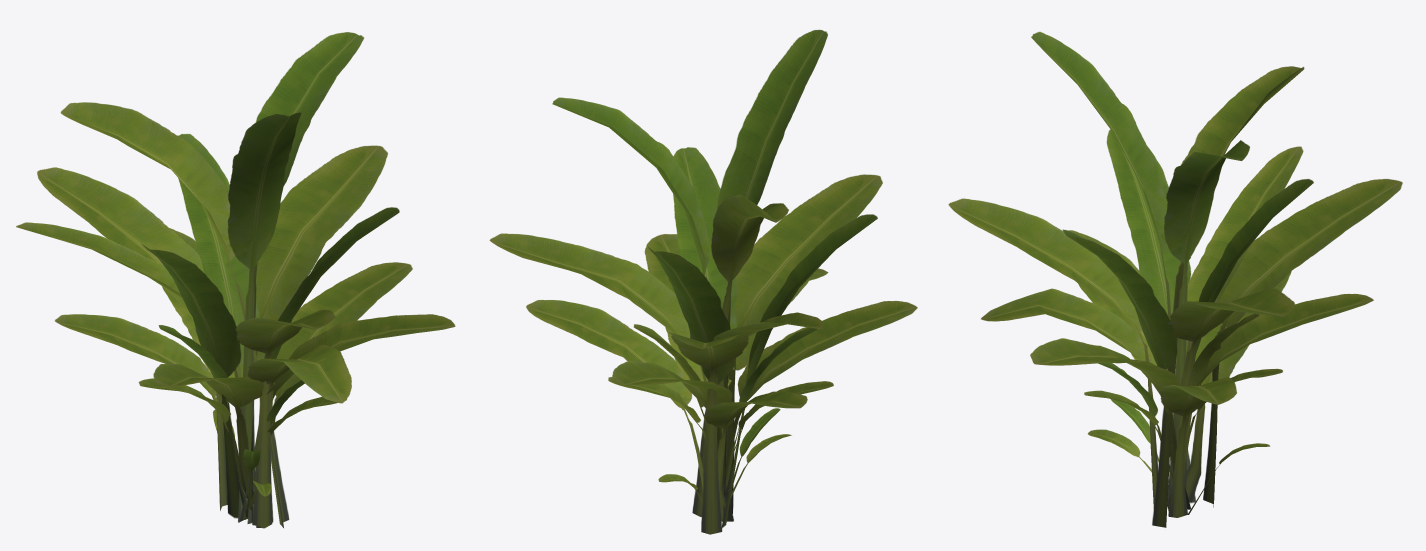
File: plant.glb
3 renders of one model, left to right at view 1: azimuth 30°, elevation 25°; view 2: azimuth 150°, elevation 25°; view 3: azimuth 270°, elevation 25°, orthographic. The views are drawn at different scales.
Parts seen in each view (by area): view 1: plant4_2_LOD0; view 2: plant4_2_LOD0; view 3: plant4_2_LOD0.
Part boxes in pixels (x1,y1,x2,y2): plant4_2_LOD0: (16, 32, 455, 528); plant4_2_LOD0: (489, 29, 917, 534); plant4_2_LOD0: (948, 31, 1402, 527).
Bounding box in the file's own units: 1.17 × 1.48 × 1.32.
Materials: 1 (1 with a texture image).
